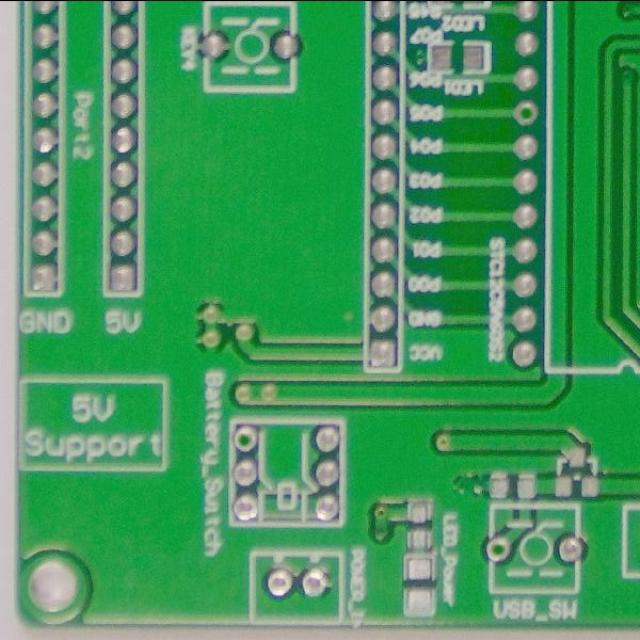Missing_Hole: (482, 534, 515, 564), (509, 98, 542, 128), (232, 424, 259, 454)
